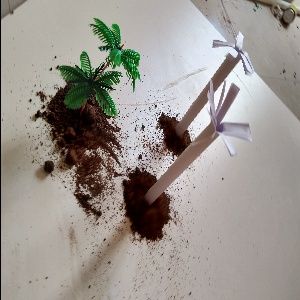plant: (45, 17, 146, 131)
weed: (181, 82, 260, 192), (175, 22, 259, 102)
